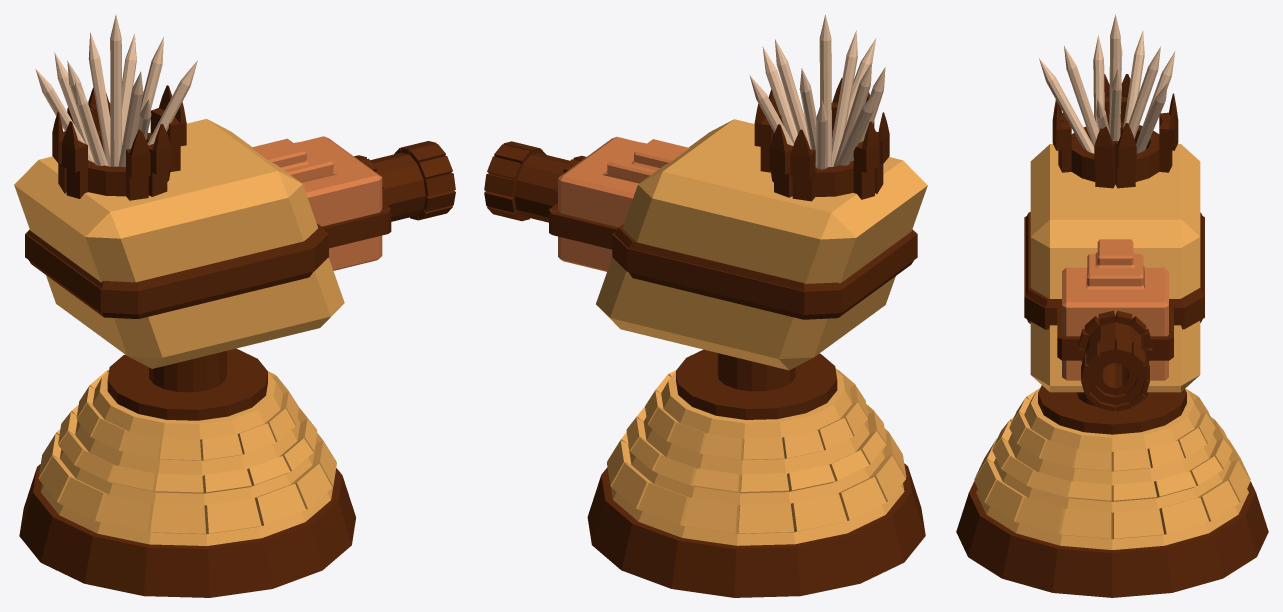
File: KurdanAtarSv3Model.fbx
3 renders of one model, left to right at view 1: azimuth 30°, elevation 25°; view 2: azimuth 150°, elevation 25°; view 3: azimuth 270°, elevation 25°, orthographic. The views are drawn at different scales.
Visible parts, largest first — view 1: kurdanatar_ust.009, kurdanatar_alt.015; view 2: kurdanatar_ust.009, kurdanatar_alt.015; view 3: kurdanatar_ust.009, kurdanatar_alt.015.
Boxes of the visible parts, x1,y1,x2,y2 form: kurdanatar_ust.009: (14, 15, 455, 368); kurdanatar_alt.015: (19, 348, 355, 597); kurdanatar_ust.009: (484, 14, 927, 370); kurdanatar_alt.015: (587, 349, 925, 597); kurdanatar_ust.009: (1024, 14, 1204, 411); kurdanatar_alt.015: (956, 385, 1268, 597).
Bounding box in the file's own units: 271 × 344 × 200.
Materials: 2 (2 with a texture image).
